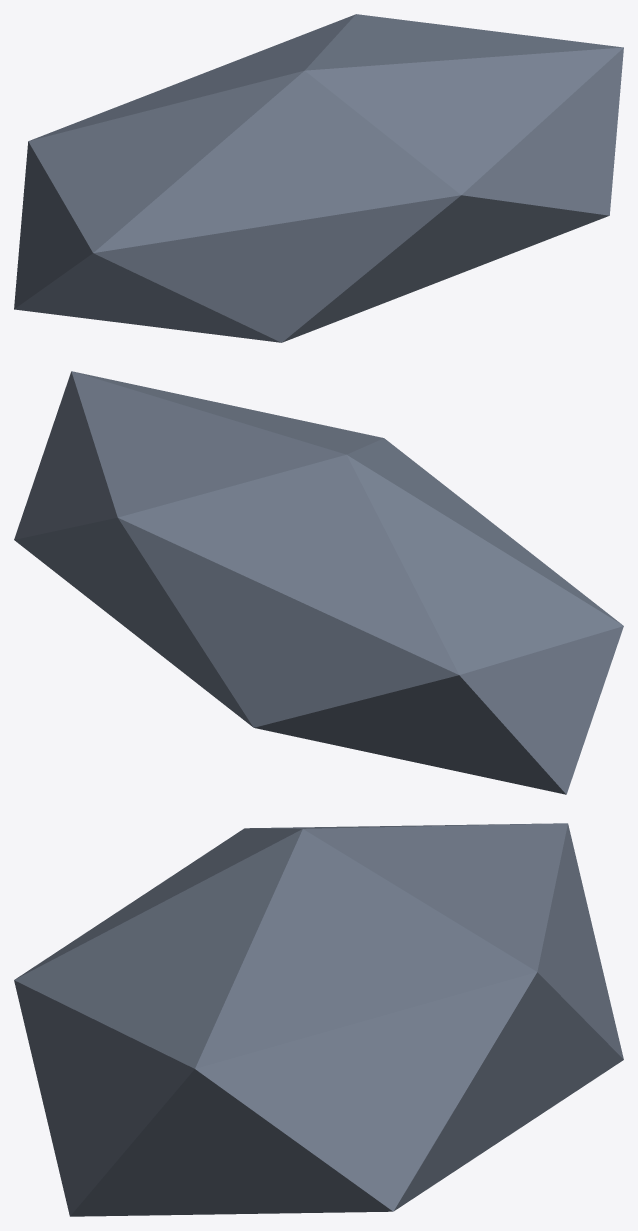
Rendered from EXTC_Rubble_01.glb.
3 views of the same model, one above another, from view 1: azimuth 30°, elevation 25°; view 2: azimuth 150°, elevation 25°; view 3: azimuth 270°, elevation 25° (orthographic). The views are drawn at different scales.
Parts seen in each view (by area): view 1: EXTC_Rubble_01; view 2: EXTC_Rubble_01; view 3: EXTC_Rubble_01.
Boxes of the visible parts, box(x1,y1,x2,y2) form: EXTC_Rubble_01: box(14, 14, 623, 342); EXTC_Rubble_01: box(14, 371, 623, 794); EXTC_Rubble_01: box(14, 823, 623, 1216).
Bounding box in the file's own units: 0.9312 × 0.3927 × 0.6146.
